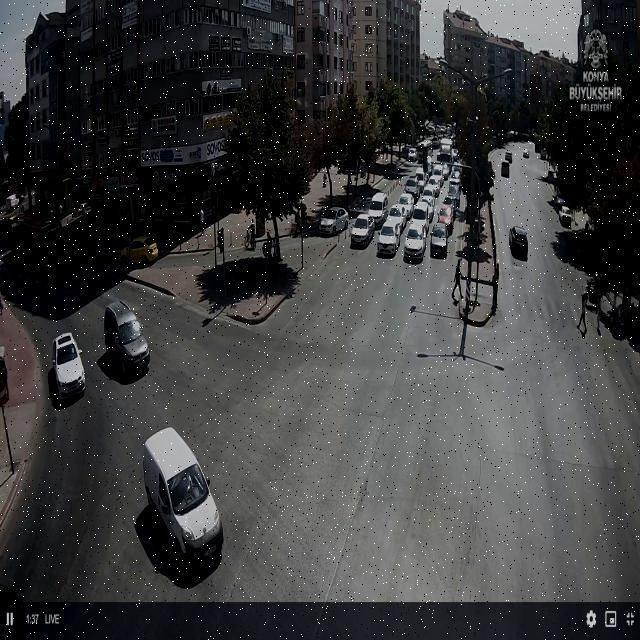Car: (104, 300, 150, 371), (52, 332, 86, 400), (120, 236, 158, 265), (377, 220, 402, 257), (403, 223, 427, 260), (319, 207, 350, 235), (350, 214, 374, 247), (384, 208, 407, 238), (430, 224, 449, 258), (509, 225, 527, 260), (436, 204, 455, 234), (413, 200, 433, 228), (396, 192, 416, 216), (445, 185, 461, 207), (403, 178, 420, 198), (425, 177, 441, 198), (429, 164, 444, 186), (558, 205, 572, 227), (550, 194, 566, 209), (449, 169, 462, 186), (406, 148, 418, 162)
Van: (142, 428, 222, 560), (368, 192, 390, 226)
